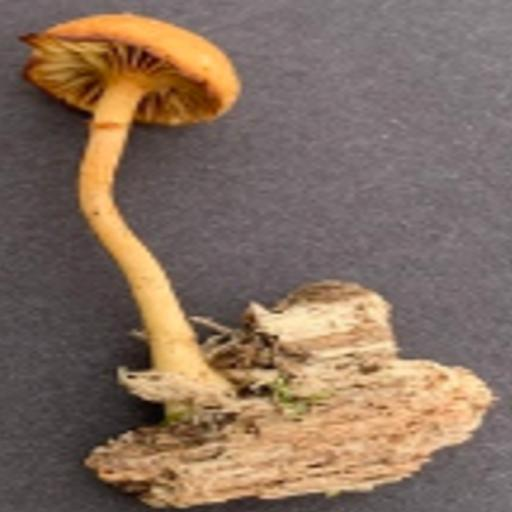mushroom: (17, 13, 278, 253)
